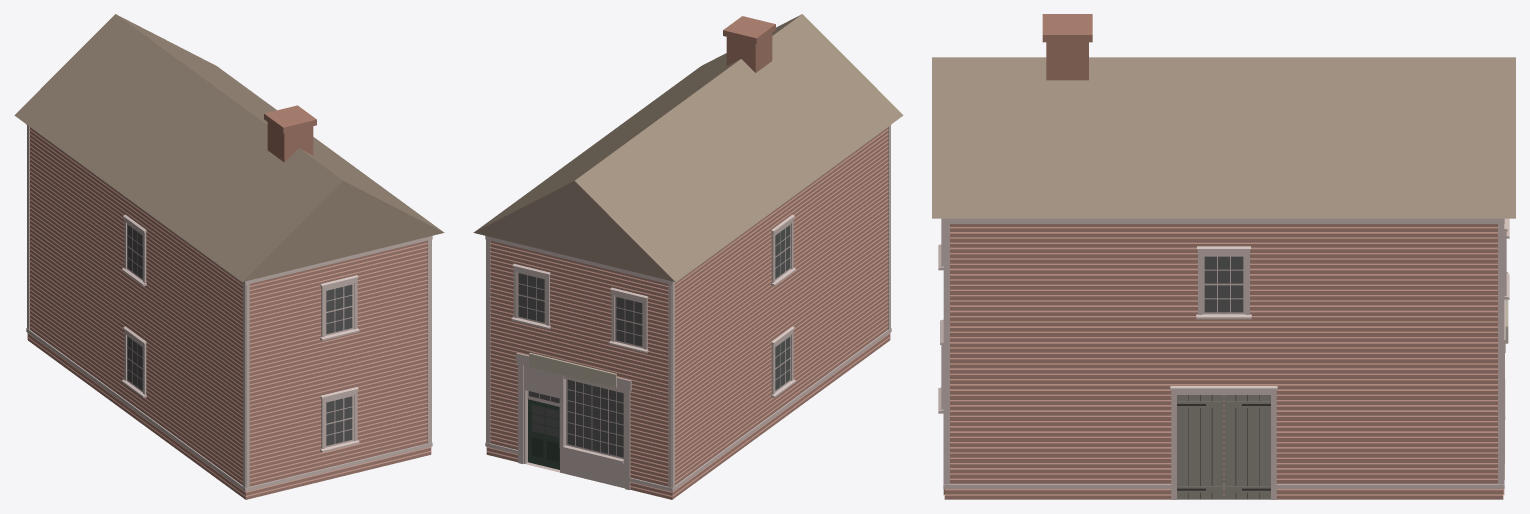
The model's file is recon_1835_gifford_c3_012__inferred_1835.glb.
3 views of the same model, side by side, from view 1: azimuth 30°, elevation 25°; view 2: azimuth 150°, elevation 25°; view 3: azimuth 270°, elevation 25° (orthographic). The views are drawn at different scales.
Visible parts, largest first — view 1: recon_1835_gifford_c3_012__inferred_1835; view 2: recon_1835_gifford_c3_012__inferred_1835; view 3: recon_1835_gifford_c3_012__inferred_1835.
Part boxes in pixels (x1=…): recon_1835_gifford_c3_012__inferred_1835: x1=14, y1=14, x2=444, y2=499; recon_1835_gifford_c3_012__inferred_1835: x1=473, y1=14, x2=903, y2=499; recon_1835_gifford_c3_012__inferred_1835: x1=932, y1=14, x2=1515, y2=499.
Bounding box in the file's own units: 5.9 × 9.07 × 11.5.
